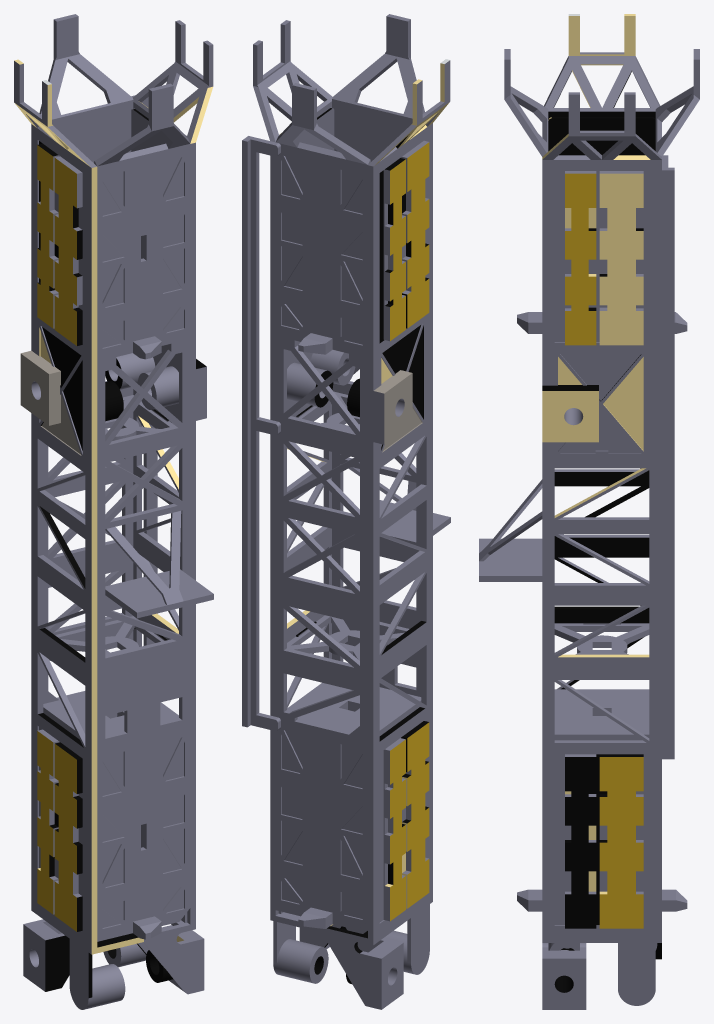
File: jia_7.FBX
3 views of the same model, side by side, from view 1: azimuth 30°, elevation 25°; view 2: azimuth 150°, elevation 25°; view 3: azimuth 270°, elevation 25° (orthographic).
Visible parts, largest first — view 1: Subensamble N52 ISS-1/Subensamble N51 ISS-1/Subensamble N48  (×6); view 2: Subensamble N52 ISS-1/Subensamble N51 ISS-1/Subensamble N48  (×6); view 3: Subensamble N52 ISS-1/Subensamble N51 ISS-1/Subensamble N48  (×5).
Part boxes in pixels (box(x1,y1,x2,y2)): Subensamble N52 ISS-1/Subensamble N51 ISS-1/Subensamble N48  (×6): box(14, 14, 213, 1009); Subensamble N52 ISS-1/Subensamble N51 ISS-1/Subensamble N48  (×6): box(242, 14, 450, 1009); Subensamble N52 ISS-1/Subensamble N51 ISS-1/Subensamble N48  (×5): box(479, 14, 699, 1009).
Size of the model in its own units: 302 by 1620 by 350.
